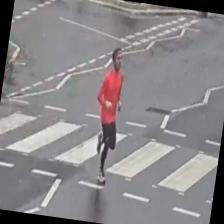person: (85, 45, 130, 184)
